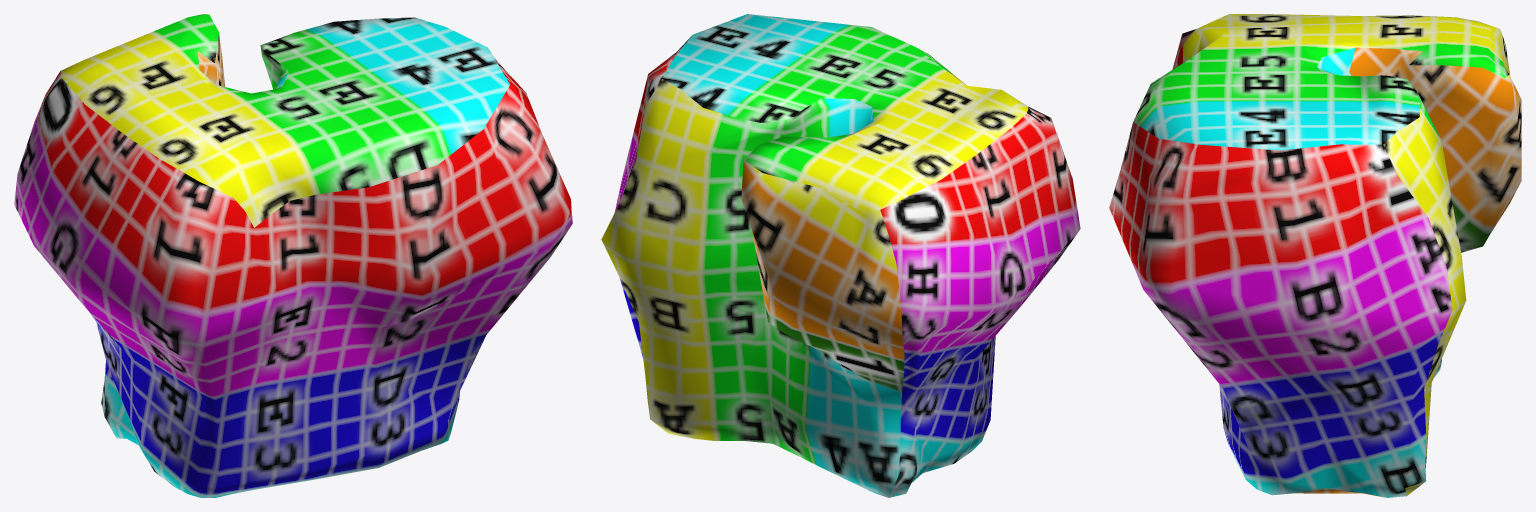
File: Stone_06.FBX
The picture shows the model from 3 angles, left to right: view 1: azimuth 30°, elevation 25°; view 2: azimuth 150°, elevation 25°; view 3: azimuth 270°, elevation 25°; orthographic projection. The views are drawn at different scales.
Visible parts, largest first — view 1: Stone_06_LOD0; view 2: Stone_06_LOD0; view 3: Stone_06_LOD0.
Part boxes in pixels (x1,y1,x2,y2): Stone_06_LOD0: (14, 14, 572, 497); Stone_06_LOD0: (601, 14, 1080, 497); Stone_06_LOD0: (1109, 14, 1521, 497).
Size of what is drawn, in the model's own units: 159 by 131 by 134.
Materials: 1 (1 with a texture image).
